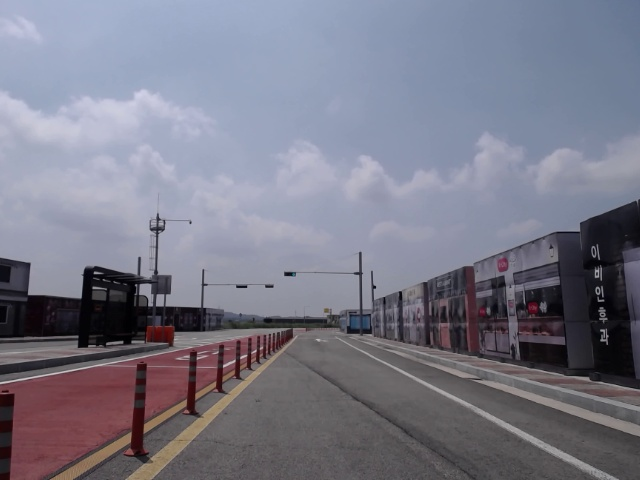green_3: (284, 271, 296, 277)
